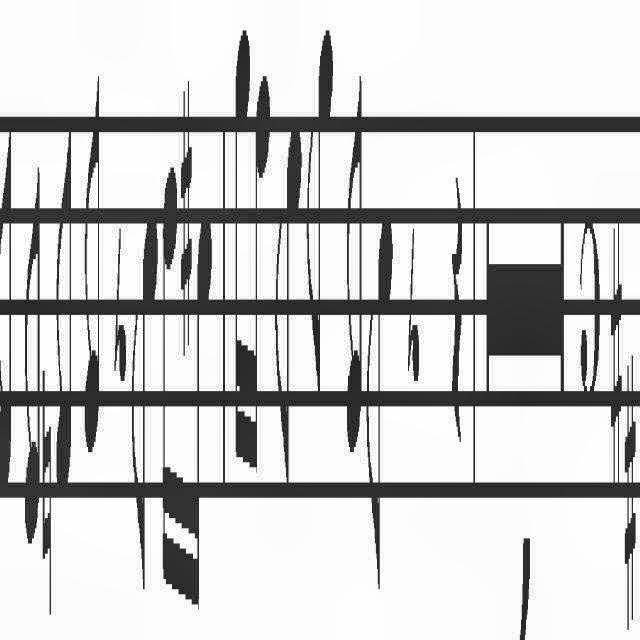Diez: (624, 268, 640, 640), (176, 93, 194, 389), (610, 205, 622, 521)
Eighth-note: (302, 8, 338, 418), (366, 155, 394, 631), (271, 92, 301, 534), (130, 200, 158, 628), (19, 145, 41, 560), (81, 44, 102, 464), (344, 45, 364, 483), (54, 96, 74, 522), (0, 111, 16, 513)
Eighth-rest: (405, 172, 423, 456), (112, 178, 128, 402)
Quarter-rest: (448, 90, 466, 528)
Sixteenth-note: (194, 208, 220, 640), (160, 136, 180, 640), (230, 34, 250, 498), (252, 52, 272, 496)
